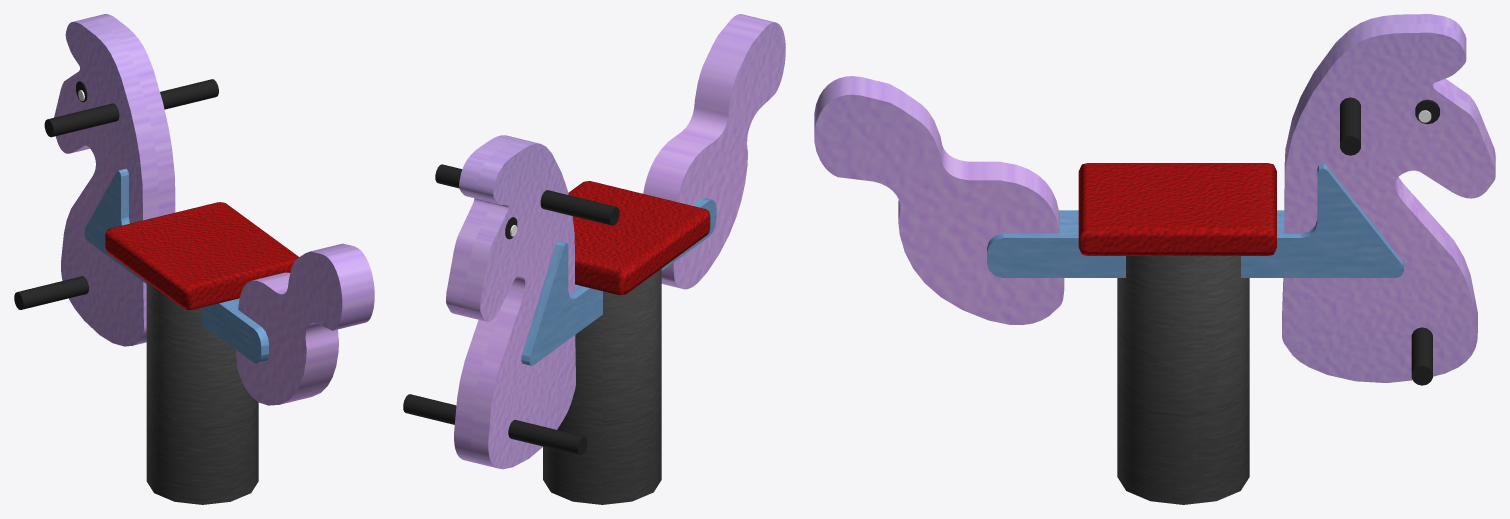
The model's file is ETC0210014.fbx.
3 renders of one model, left to right at view 1: azimuth 30°, elevation 25°; view 2: azimuth 150°, elevation 25°; view 3: azimuth 270°, elevation 25°, orthographic. The views are drawn at different scales.
Parts seen in each view (by area): view 1: smETC0210014; view 2: smETC0210014; view 3: smETC0210014.
Boxes of the visible parts, box(x1,y1,x2,y2) form: smETC0210014: box(14, 14, 374, 504); smETC0210014: box(403, 14, 785, 504); smETC0210014: box(814, 14, 1495, 504).
Bounding box in the file's own units: 56.44 × 126 × 171.
1 material, 1 textured.
